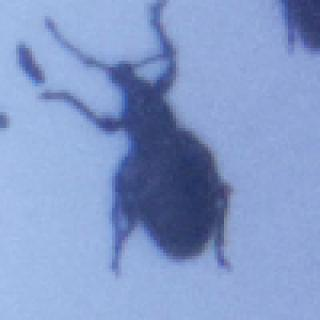bvw: (35, 0, 240, 276)
